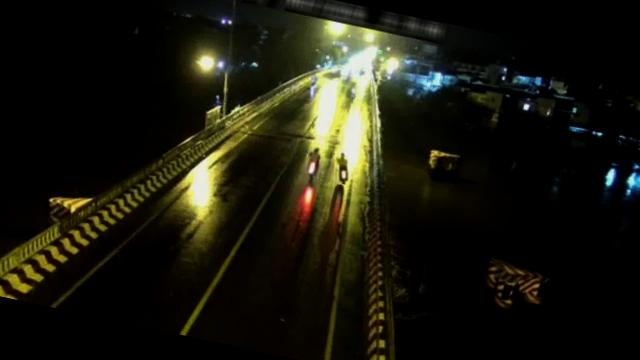Bike: (330, 149, 354, 186), (303, 146, 324, 179)
